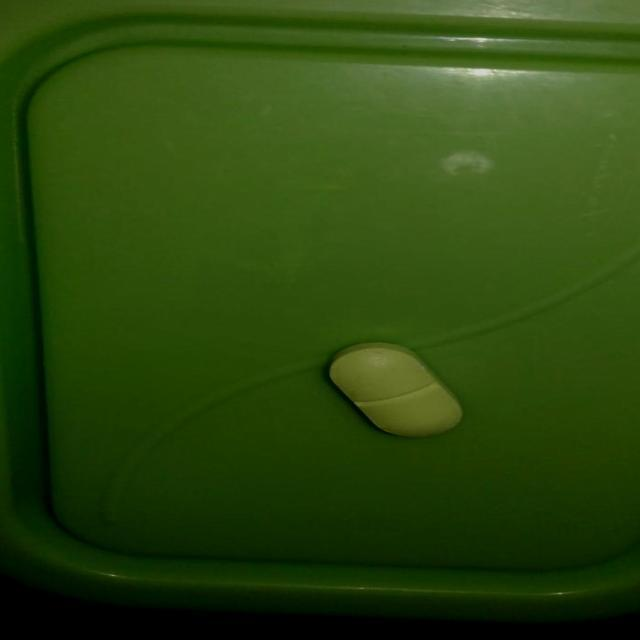pill: (320, 338, 474, 439)
